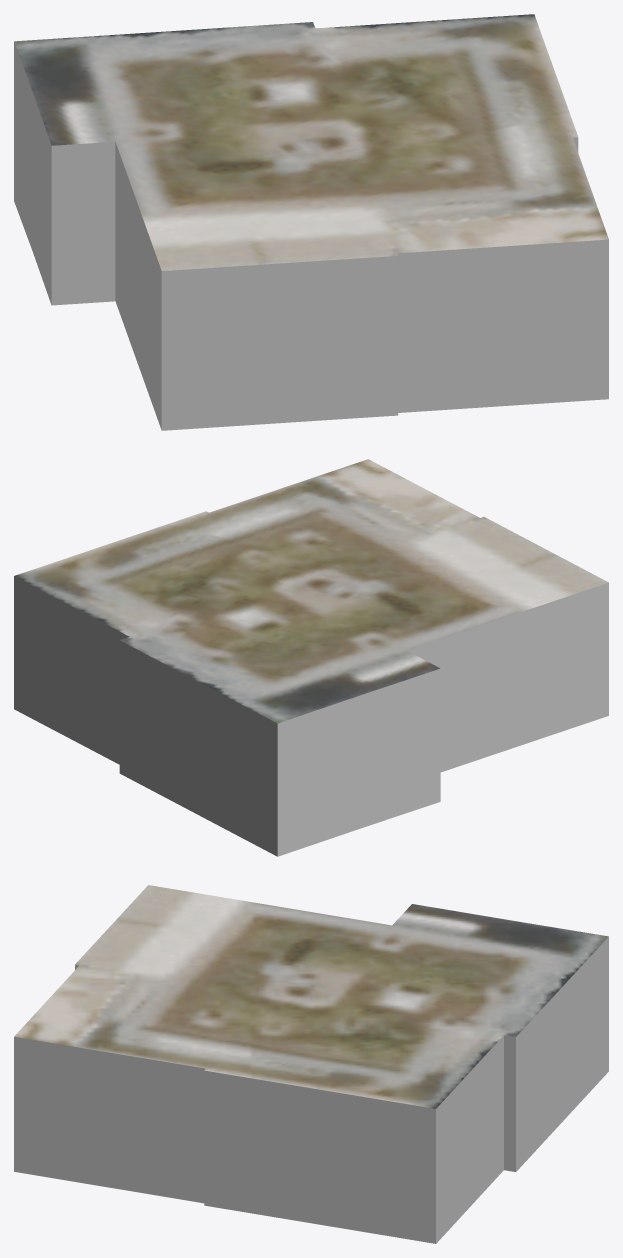
Rendered from DEBW_001000oLjnB.gltf.
3 views of the same model, one above another, from view 1: azimuth 30°, elevation 25°; view 2: azimuth 150°, elevation 25°; view 3: azimuth 270°, elevation 25° (orthographic). The views are drawn at different scales.
Visible parts, largest first — view 1: Z_UP; view 2: Z_UP; view 3: Z_UP.
Boxes of the visible parts, x1,y1,x2,y2 form: Z_UP: (14,14,608,430); Z_UP: (14,459,608,856); Z_UP: (14,885,608,1243).
Bounding box in the file's own units: 21.34 × 6 × 23.96.
2 materials, 1 textured.
